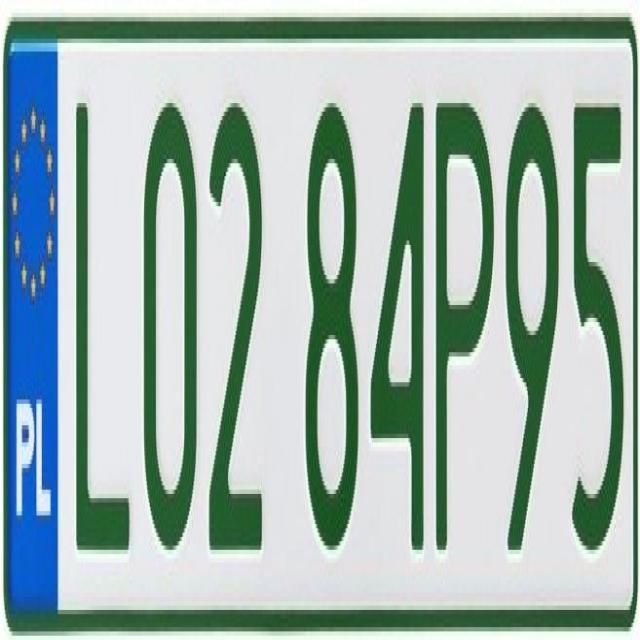pl_license_plate: (4, 25, 632, 636)
